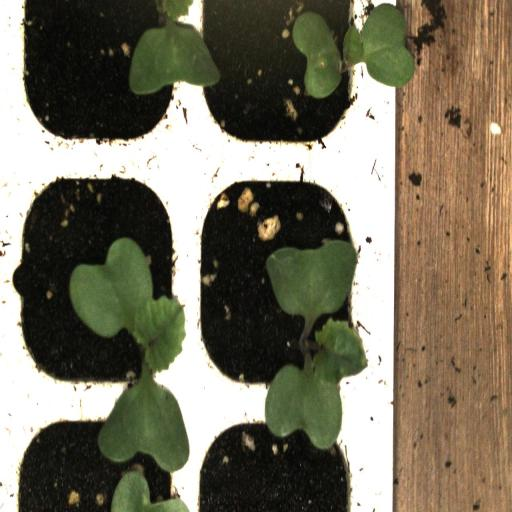Folha: (291, 0, 414, 99), (110, 469, 188, 512)
Germinacao: (187, 154, 380, 410), (13, 152, 188, 408), (191, 0, 380, 151), (14, 0, 188, 151)
